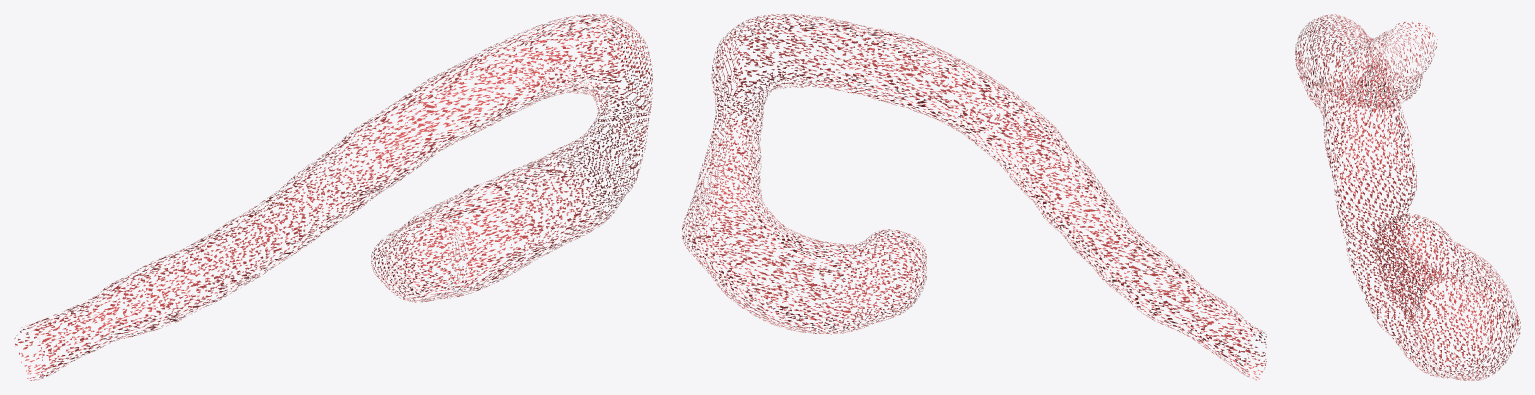
Rendered from aorta.glb.
The picture shows the model from 3 angles, left to right: view 1: azimuth 30°, elevation 25°; view 2: azimuth 150°, elevation 25°; view 3: azimuth 270°, elevation 25°; orthographic projection. The views are drawn at different scales.
Size of the model in its own units: 244 by 113 by 73.53.
